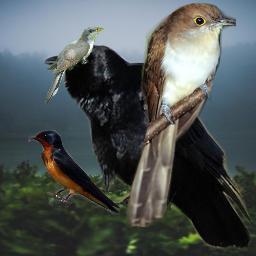Crow: (43, 43, 255, 252)
Cuckoo: (127, 1, 236, 227), (45, 27, 104, 103)
Swallow: (28, 130, 120, 215)
